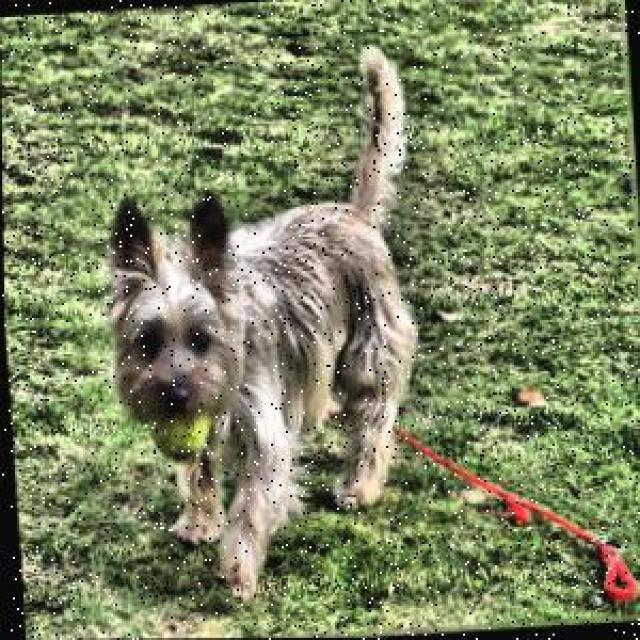tennis-ball: (147, 411, 209, 462)
